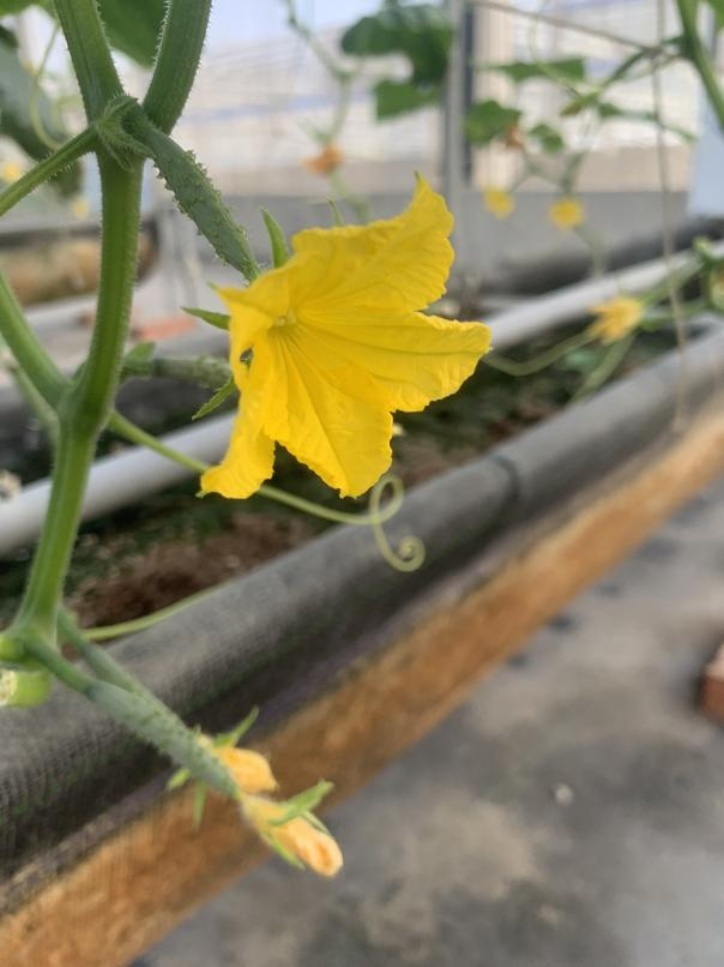bear: (78, 676, 347, 886)
flowering: (126, 126, 497, 521)
